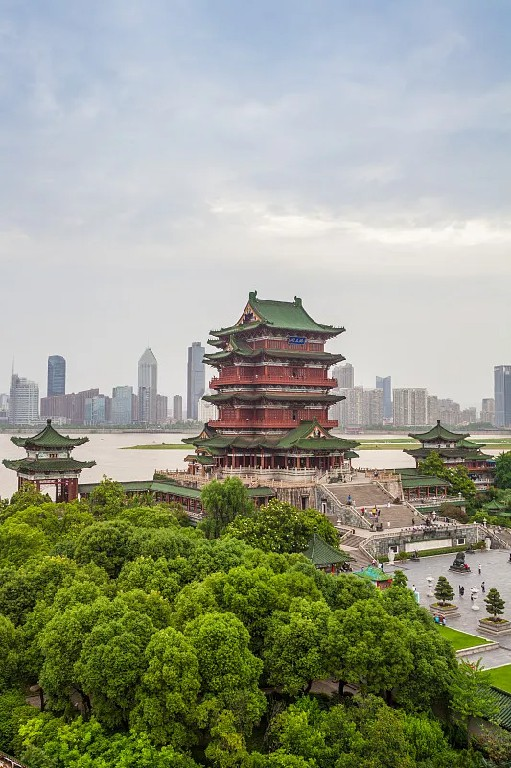Teng: (181, 292, 360, 472)
